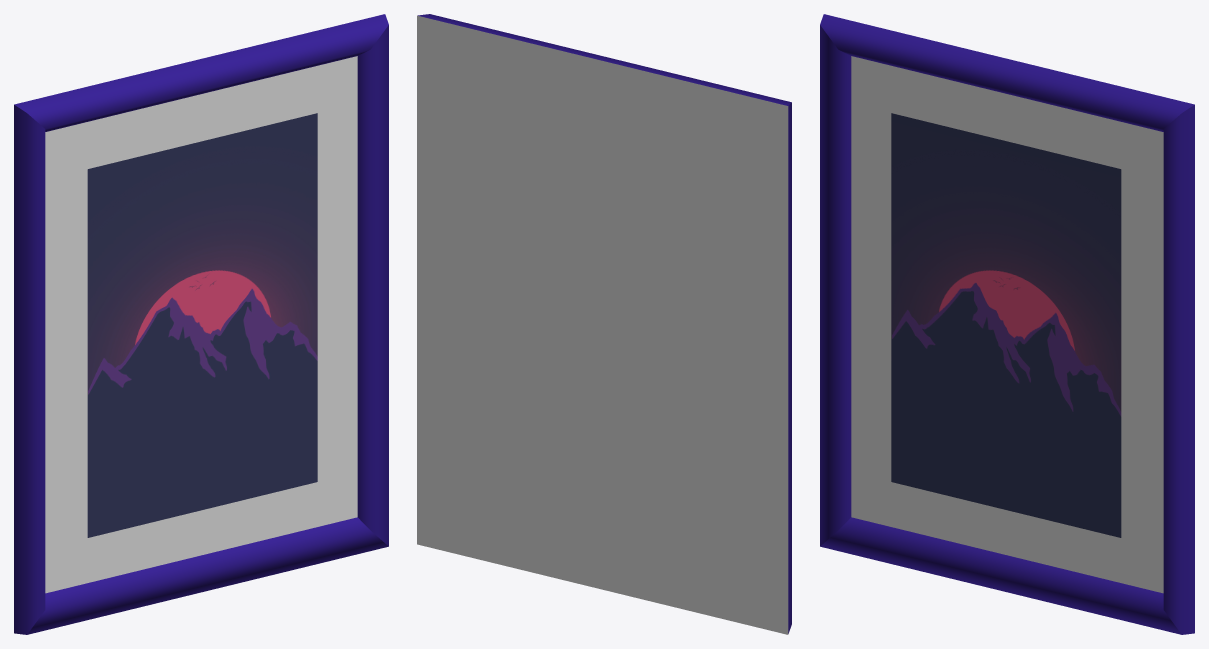
Rendered from picture_023.fbx.
3 views of the same model, side by side, from view 1: azimuth 30°, elevation 25°; view 2: azimuth 150°, elevation 25°; view 3: azimuth 330°, elevation 25° (orthographic).
Visible parts, largest first — view 1: picture_023; view 2: picture_023; view 3: picture_023.
Boxes of the visible parts, x1,y1,x2,y2 form: picture_023: (14,14,388,634); picture_023: (417,14,791,634); picture_023: (820,14,1194,634).
Size of the model in its own units: 81.97 by 3.21 by 112.
